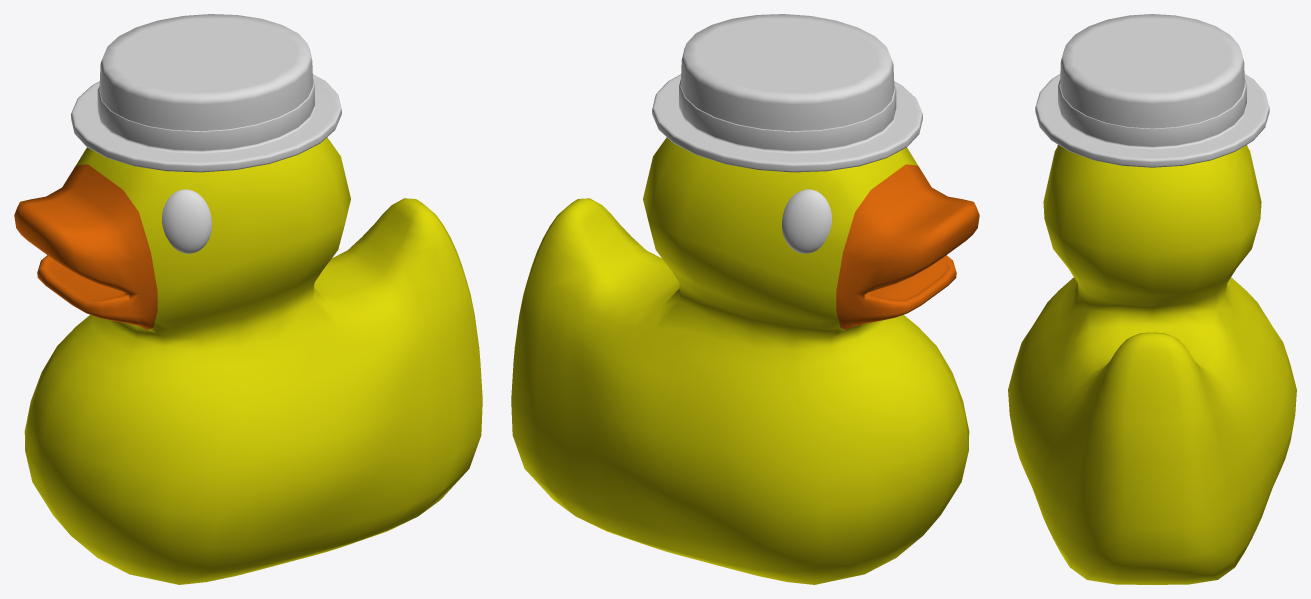
File: Duck.fbx
3 renders of one model, left to right at view 1: azimuth 30°, elevation 25°; view 2: azimuth 150°, elevation 25°; view 3: azimuth 270°, elevation 25°, orthographic. The views are drawn at different scales.
Parts seen in each view (by area): view 1: pCube1, polySurface1, polySurface3, pSphere2; view 2: pCube1, polySurface1, polySurface3, pSphere1; view 3: pCube1, polySurface1, polySurface3.
Boxes of the visible parts, <box> form: pCube1: <box>14,137,482,584</box>; polySurface1: <box>71,14,341,172</box>; polySurface3: <box>97,79,314,150</box>; pSphere2: <box>162,189,211,253</box>; pCube1: <box>511,137,979,584</box>; polySurface1: <box>652,14,922,172</box>; polySurface3: <box>679,79,896,150</box>; pSphere1: <box>782,189,831,253</box>; pCube1: <box>1008,145,1296,584</box>; polySurface1: <box>1035,14,1269,167</box>; polySurface3: <box>1058,79,1246,146</box>.
Bounding box in the file's own units: 162 × 172 × 99.74.
